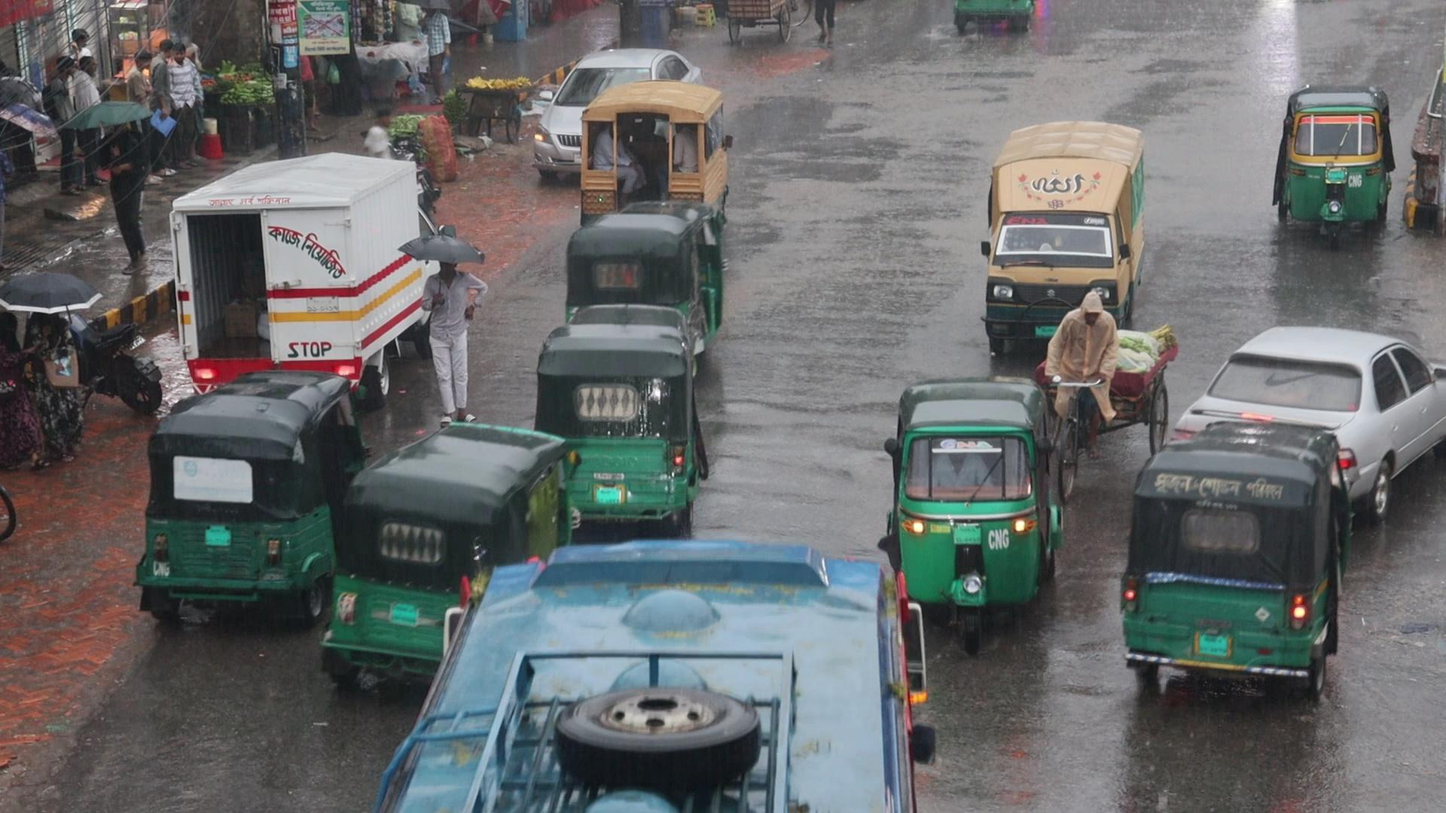Car: (1161, 317, 1446, 525)
Truck: (970, 124, 1149, 357), (572, 76, 733, 270)
